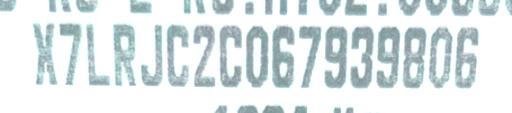letter: (83, 21, 113, 90), (30, 20, 60, 87), (138, 20, 166, 91), (56, 21, 84, 90), (216, 22, 244, 91), (242, 22, 270, 91), (452, 23, 480, 92), (110, 20, 138, 87), (164, 21, 192, 88), (190, 23, 218, 88), (270, 22, 296, 91), (322, 22, 348, 91), (348, 23, 374, 90), (374, 23, 400, 90), (296, 24, 322, 91), (428, 22, 452, 91), (402, 24, 426, 93)
